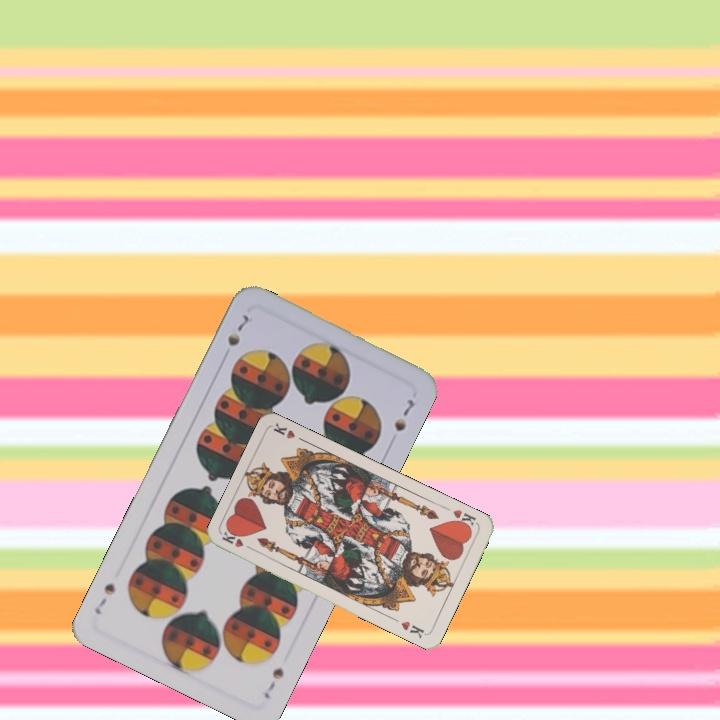HK: (218, 528, 258, 554), (449, 505, 480, 532)
S7: (223, 310, 252, 349), (259, 663, 287, 702)
